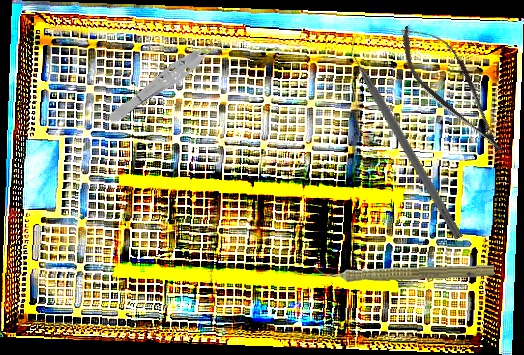Chopper: (341, 33, 475, 241)
Handpiece: (314, 257, 495, 286)
Micro Scissor: (386, 11, 522, 168)
Tissue Forceps: (104, 32, 229, 130)
